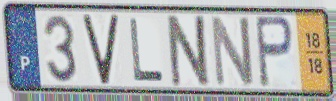3: (41, 12, 80, 85)
L: (127, 17, 166, 84)
N: (209, 13, 257, 89), (166, 13, 213, 89)
P: (253, 14, 296, 91)
V: (80, 12, 121, 87)
